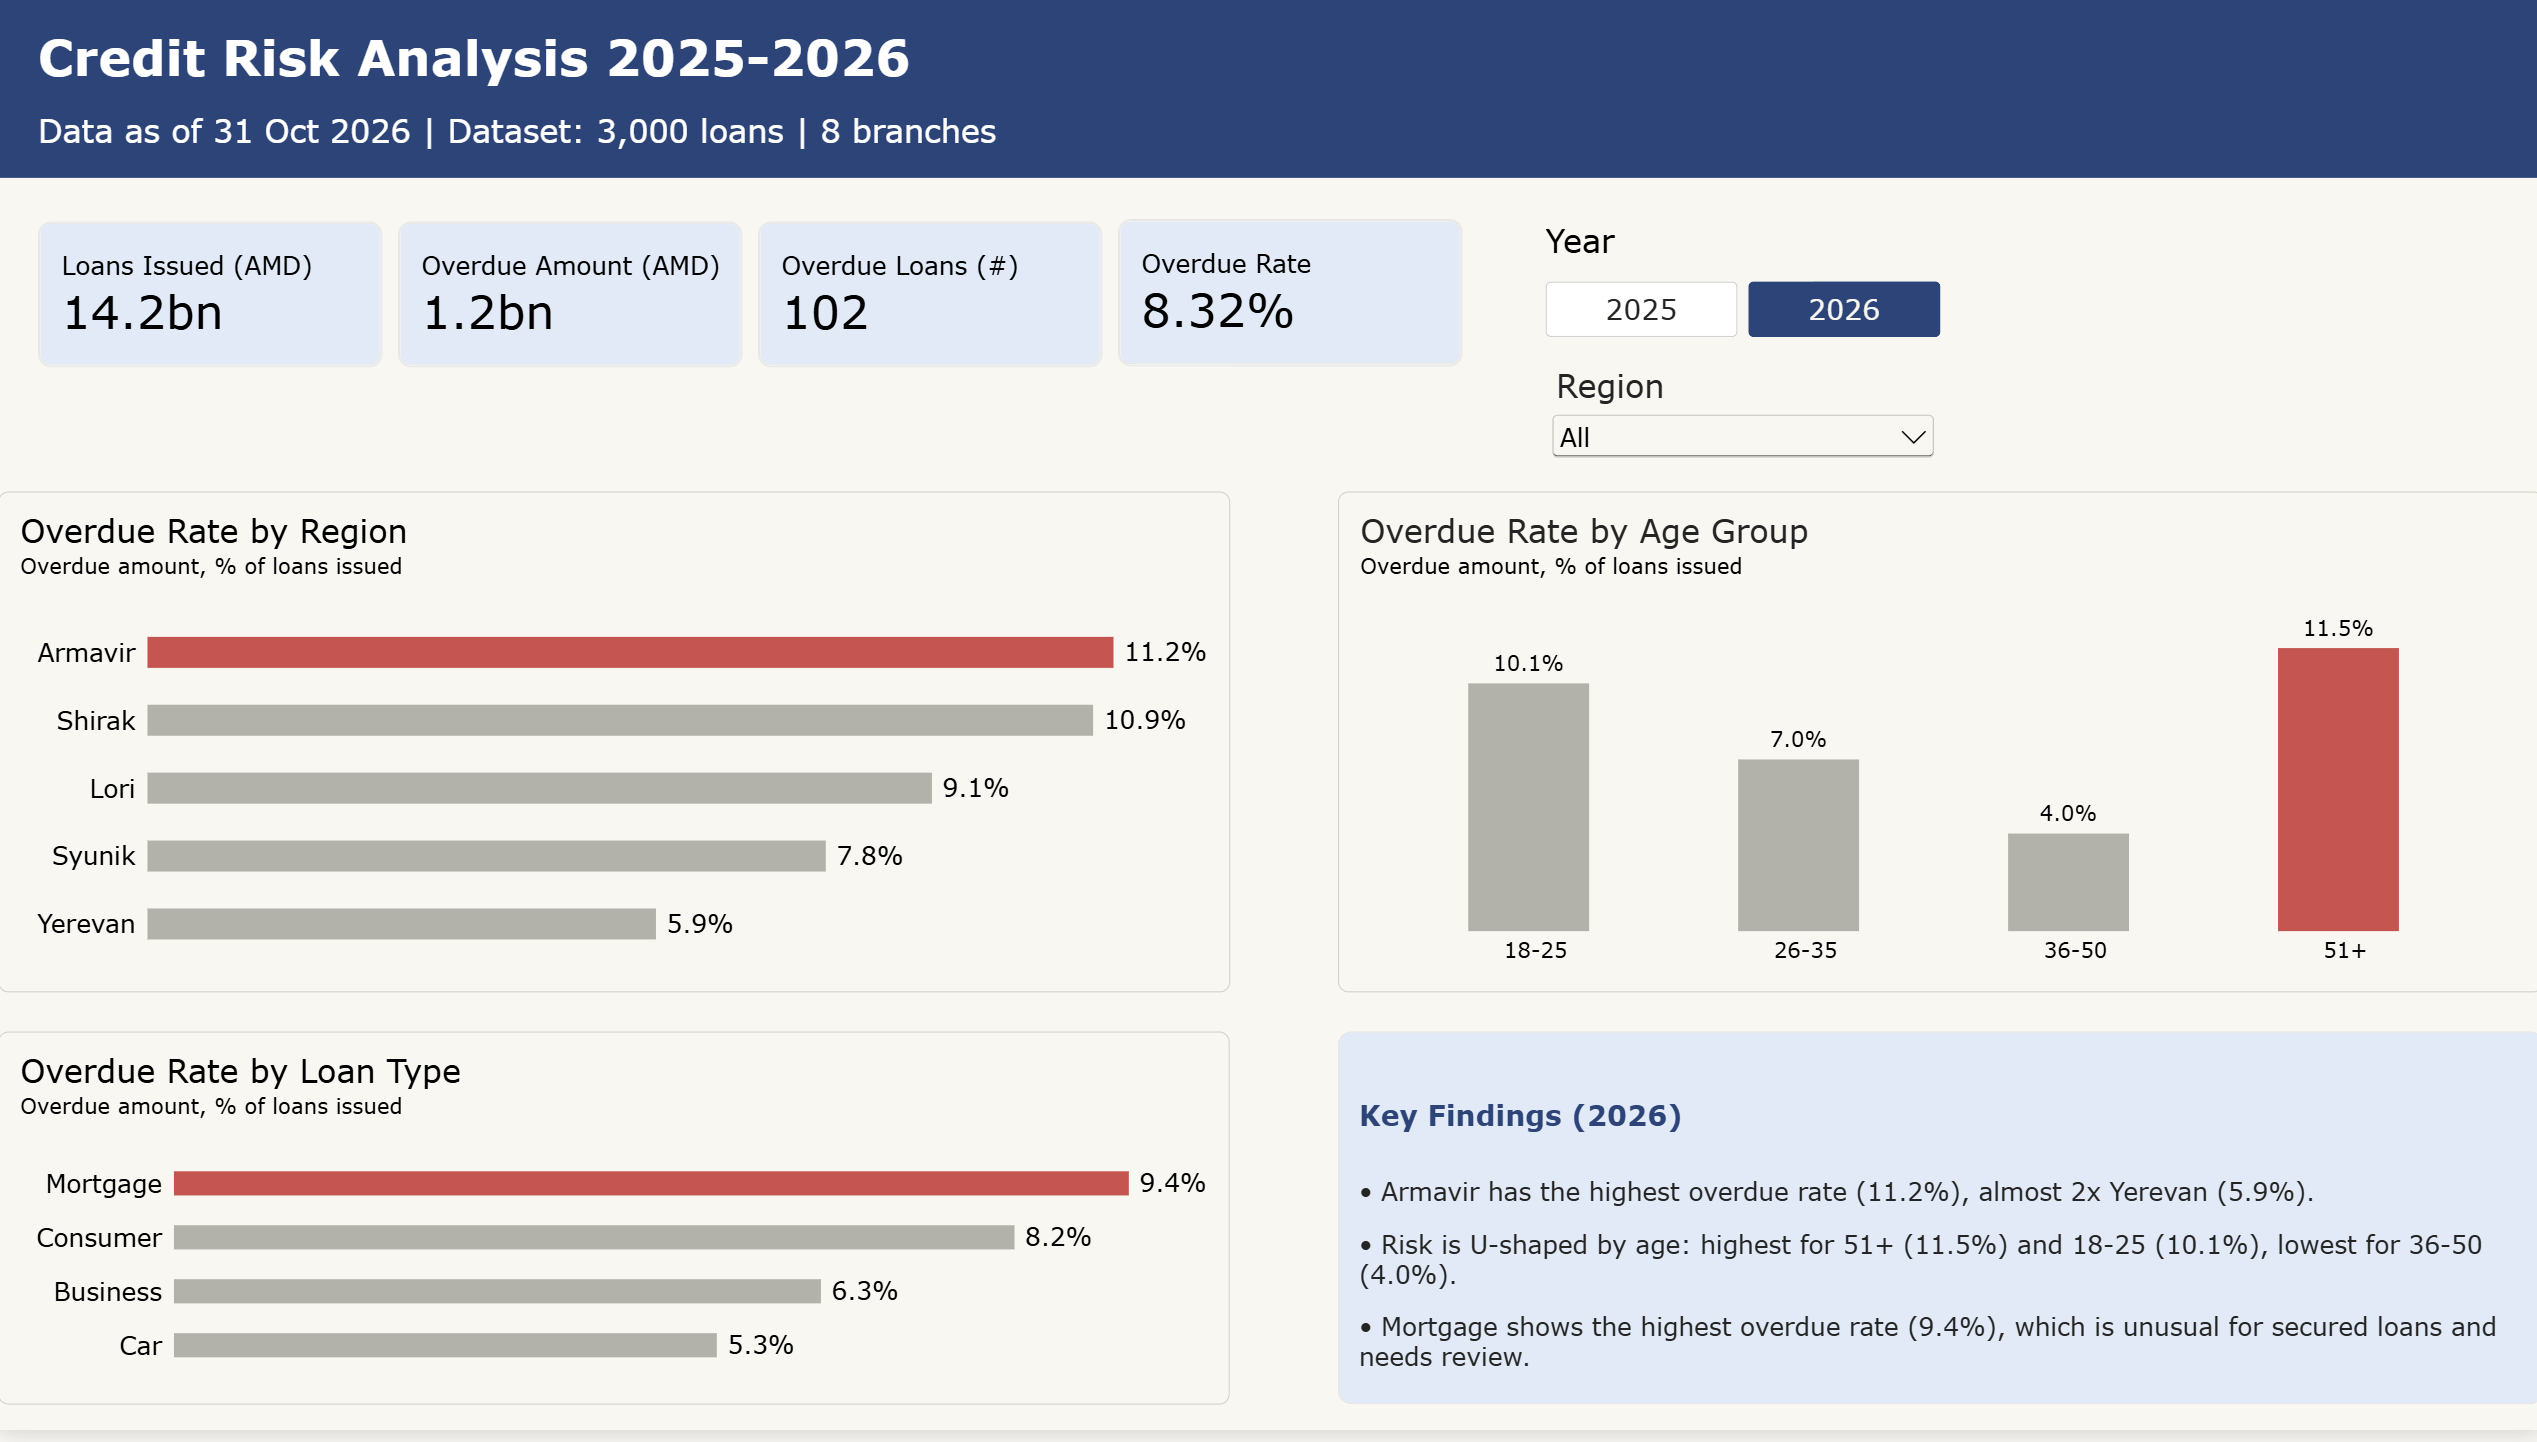

What the dashboard file says about the page in this screenshot:
{"tool":"powerbi","page":{"name":"Risk","canvas":[1920,1080],"ordinal":1},"visuals":[{"type":"shape","box":[0,0,1920,135],"z":0},{"type":"textbox","box":[30,20,1890,65],"z":1000},{"type":"cardVisual","fields":{"Data":["fact_loans.Overdue Amount Text"]},"box":[301.5,167.5,260,110],"z":2000},{"type":"cardVisual","fields":{"Data":["fact_loans.Overdue Count"]},"box":[573,167.5,260,110],"z":3000},{"type":"cardVisual","fields":{"Data":["fact_loans.Loans Issued Text"]},"box":[30,167.5,260,110],"z":4000},{"type":"cardVisual","fields":{"Data":["fact_loans.Overdue%"]},"box":[844.4,166.7,260,111.1],"z":5000},{"type":"barChart","title":"Overdue Rate by Region ","fields":{"Category":["dim_branches.Region"],"Y":["fact_loans.Overdue%"]},"box":[0,371.7,930,378],"z":6000},{"type":"advancedSlicerVisual","fields":{"Values":["Dates.Year"]},"box":[1168,168,298,88],"z":7000},{"type":"slicer","fields":{"Values":["dim_branches.Region"]},"box":[1168,278,298,94],"z":8000},{"type":"textbox","box":[30.4,85.1,1338.7,32.4],"z":9000},{"type":"clusteredColumnChart","title":"Overdue Rate by Age Group","fields":{"Category":["dim_customers.AgeGroup"],"Y":["fact_loans.Overdue%"]},"box":[1011.3,371.7,910,378],"z":10000},{"type":"barChart","title":"Overdue Rate by Loan Type","fields":{"Category":["fact_loans.LoanType"],"Y":["fact_loans.Overdue%"]},"box":[0,779.2,929.6,281.5],"z":11000},{"type":"textbox","box":[1011.3,779.2,909.4,281.1],"z":12000}]}

Visuals, with their boxes in screenshot pixels (x1, y1, x2, y2), scaled from the page's 1920x1080 canvas onto the 2537x1442 screenshot:
shape: pyautogui.locateOnScreen(0, 0, 2536, 180)
textbox: pyautogui.locateOnScreen(40, 27, 2536, 113)
cardVisual - fact_loans.Overdue Amount Text: pyautogui.locateOnScreen(398, 224, 742, 371)
cardVisual - fact_loans.Overdue Count: pyautogui.locateOnScreen(757, 224, 1101, 371)
cardVisual - fact_loans.Loans Issued Text: pyautogui.locateOnScreen(40, 224, 383, 371)
cardVisual - fact_loans.Overdue%: pyautogui.locateOnScreen(1116, 223, 1459, 371)
"Overdue Rate by Region " barChart: pyautogui.locateOnScreen(0, 496, 1229, 1001)
advancedSlicerVisual - Dates.Year: pyautogui.locateOnScreen(1543, 224, 1937, 342)
slicer - dim_branches.Region: pyautogui.locateOnScreen(1543, 371, 1937, 497)
textbox: pyautogui.locateOnScreen(40, 114, 1809, 157)
"Overdue Rate by Age Group" clusteredColumnChart: pyautogui.locateOnScreen(1336, 496, 2536, 1001)
"Overdue Rate by Loan Type" barChart: pyautogui.locateOnScreen(0, 1040, 1228, 1416)
textbox: pyautogui.locateOnScreen(1336, 1040, 2536, 1416)
